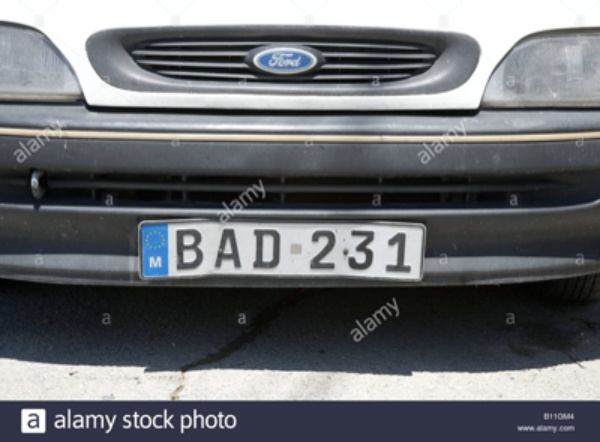licence: (134, 214, 426, 283)
